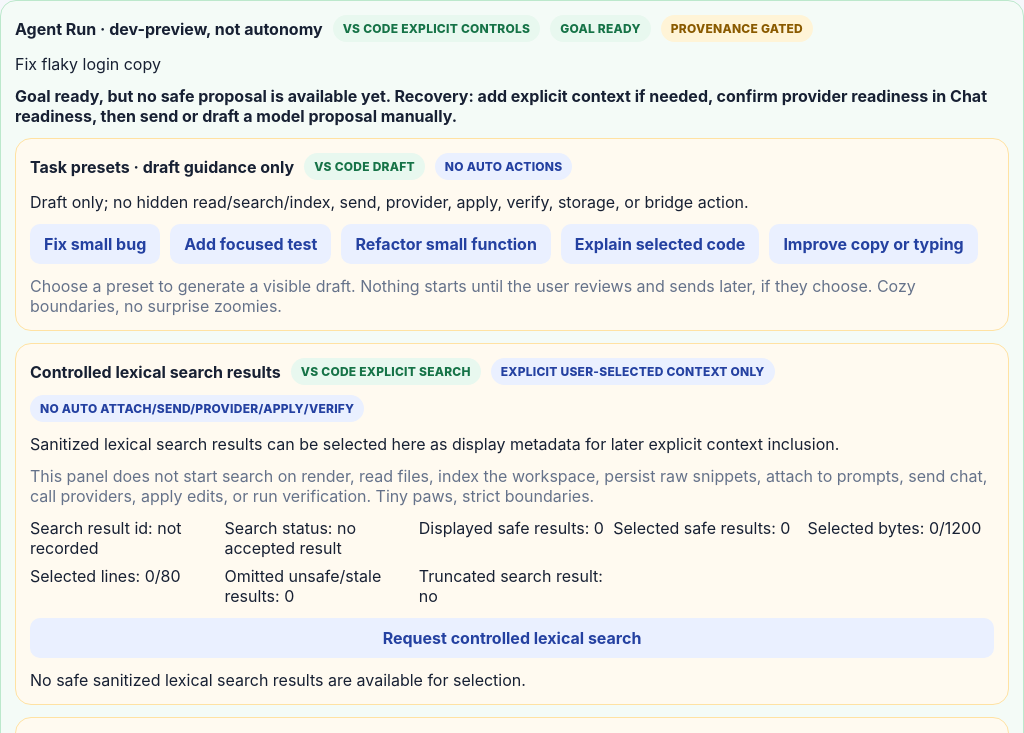
AgentRunPanel › renders task preset choices and generates user-reviewed draft guidance after explicit selection
Expected: the button "Add focused test" is shown, left=170, top=224, right=332, bottom=264
Expected: the button "Refactor small function" is shown, left=341, top=224, right=551, bottom=264
Click the button "Fix small bug" at (95, 244), box left=30, top=224, right=160, bottom=264
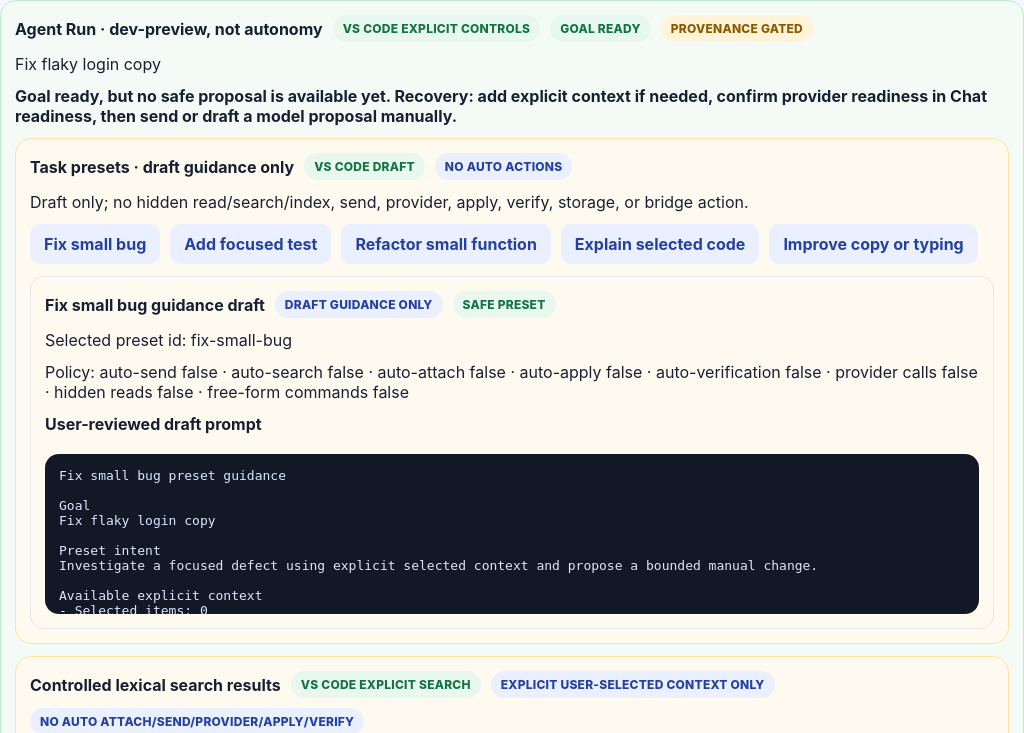
Result: the text "Fix small bug guidance draft" is shown at left=45, top=294, right=265, bottom=314
Result: the text "Selected preset id: fix-small-bug" is shown at left=45, top=330, right=292, bottom=350
Result: the text "auto-send false · auto-search false · auto-attach false · auto-apply false · auto-verification false" is shown at left=45, top=362, right=979, bottom=402
